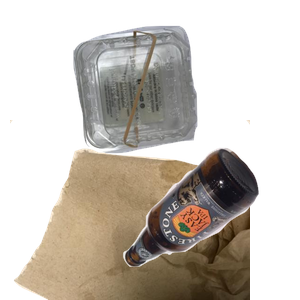glass: (120, 145, 300, 300)
metal: (105, 63, 300, 192)
plastic: (71, 23, 300, 169)
trash: (10, 120, 250, 300)
